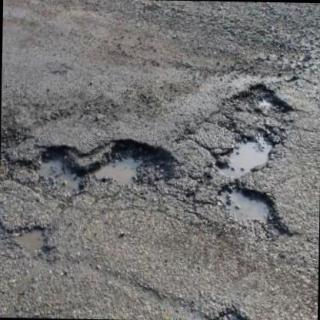pothole: (210, 84, 293, 235), (24, 139, 181, 196)
